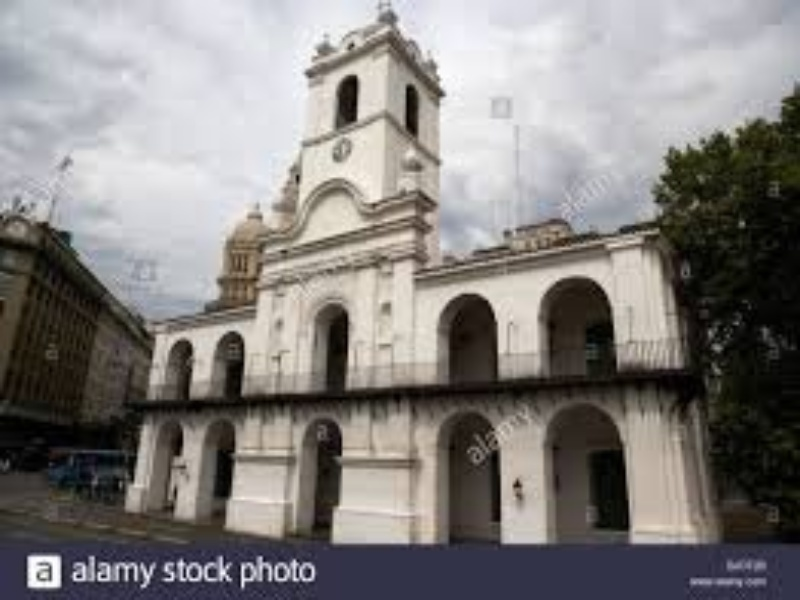cabildo: (124, 1, 727, 554)
